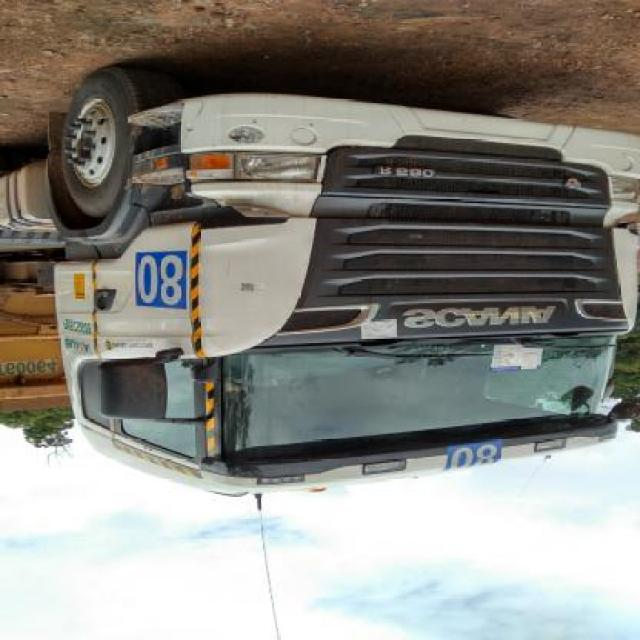truck: (1, 65, 639, 503)
